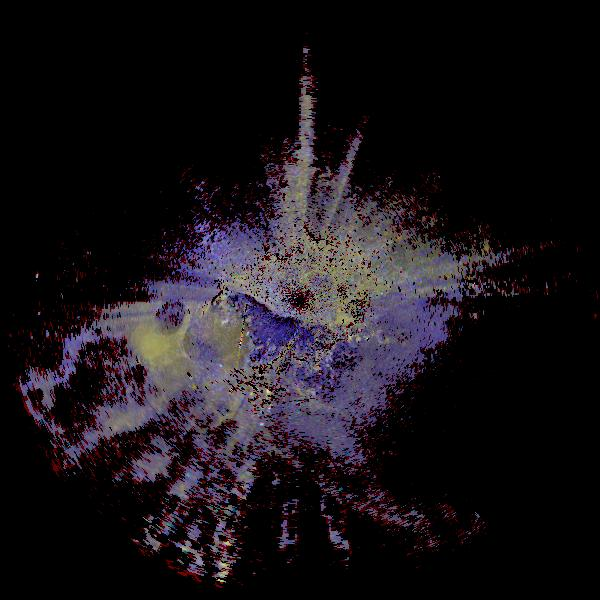roost: (41, 299, 191, 449)
